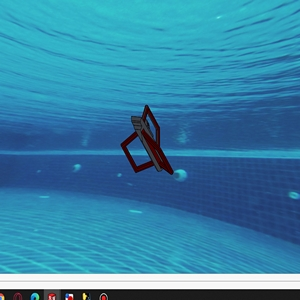submarine: (118, 101, 178, 174)
